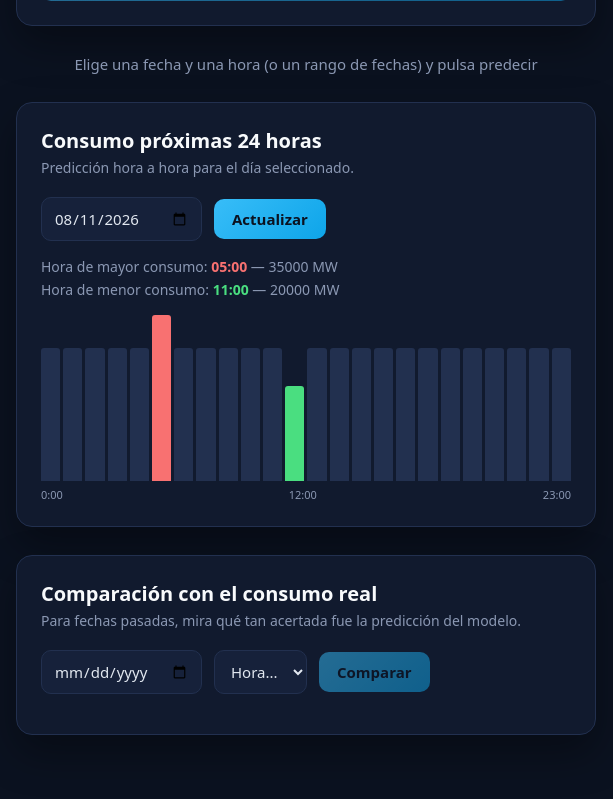
Test case: App (simulación de UI) › muestra el consumo real cuando el backend lo entrega
The width and height of the screenshot is (613, 799).
(page scrolled)
Type "2026-08-11" into the date field named "Fecha de comparación" at x=122, y=672, box [41,650,202,694]
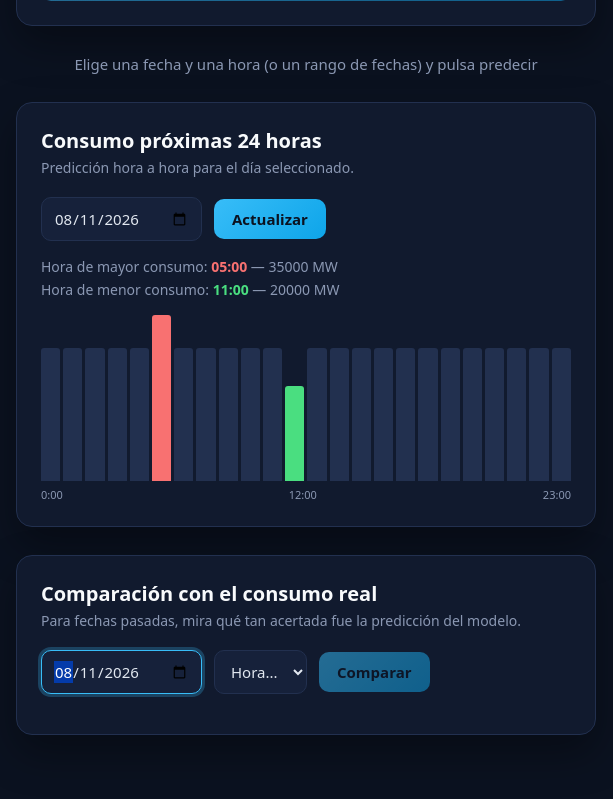
Select "14:00" in the dropdown named "Hora de comparación" at x=260, y=672, box [214,650,307,694]
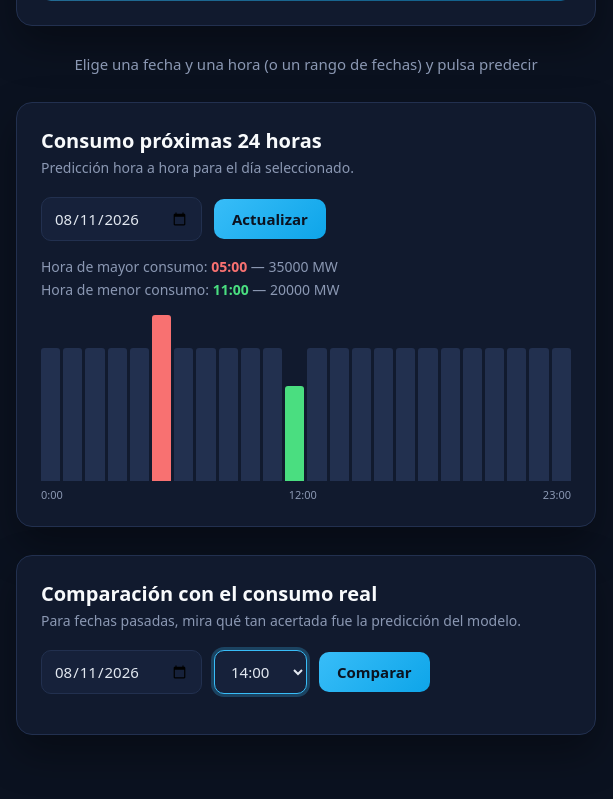
Click the button "Comparar" at x=374, y=672, box [319,652,430,692]
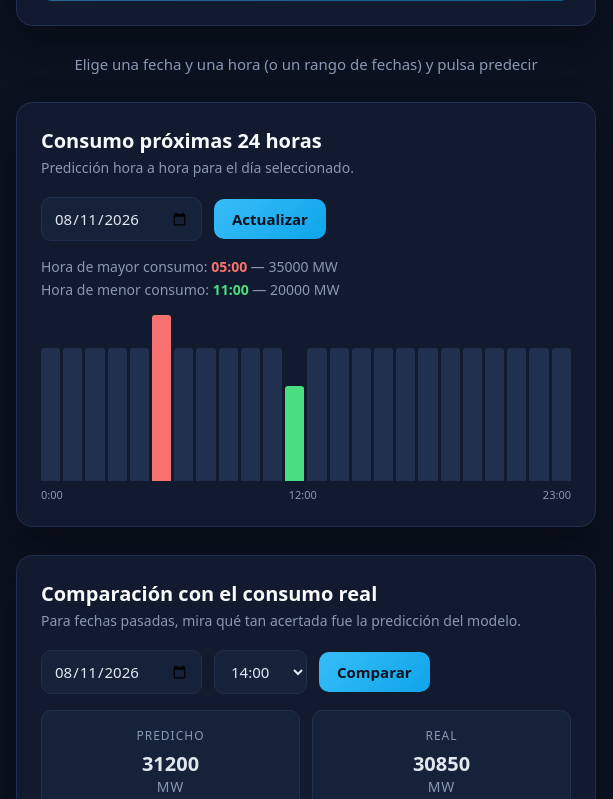
expect the text "30850" is shown: met, box [413,750,470,777]
